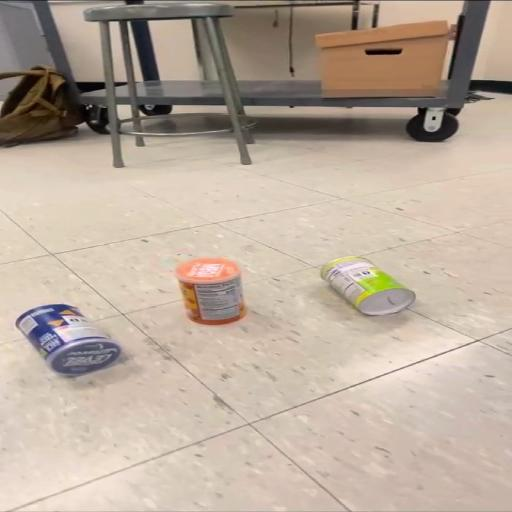pringle can: (15, 304, 121, 375), (322, 257, 414, 315), (175, 258, 246, 324)
